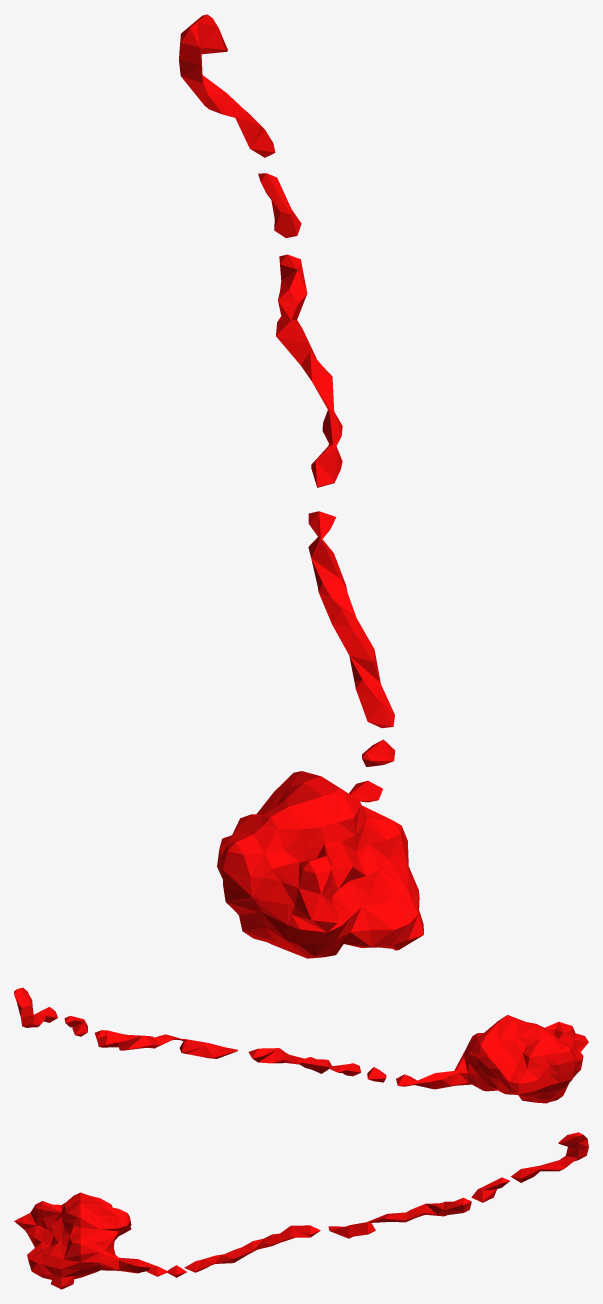
File: yheS_coarse.dae
The picture shows the model from 3 angles, top to bottom: view 1: azimuth 30°, elevation 25°; view 2: azimuth 150°, elevation 25°; view 3: azimuth 270°, elevation 25°; orthographic projection. The views are drawn at different scales.
Visible parts, largest first — view 1: yheS; view 2: yheS; view 3: yheS.
Boxes of the visible parts, left/top/right/bottom form: yheS: left=179, top=14, right=423, bottom=958; yheS: left=14, top=987, right=588, bottom=1103; yheS: left=14, top=1132, right=588, bottom=1289.
Size of the model in its own units: 190 by 172 by 385.
